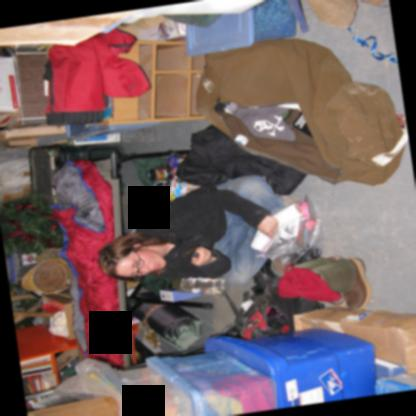backpack: (176, 122, 309, 187)
suitcase: (199, 41, 394, 185)
